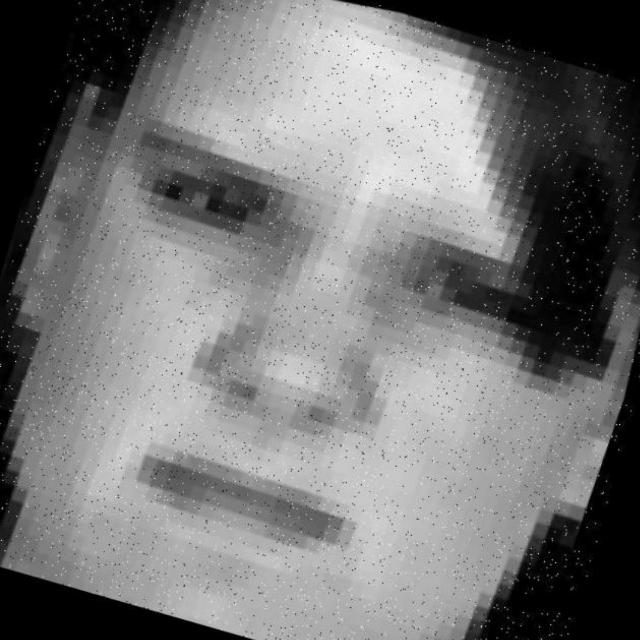Angry: (12, 22, 640, 640)
